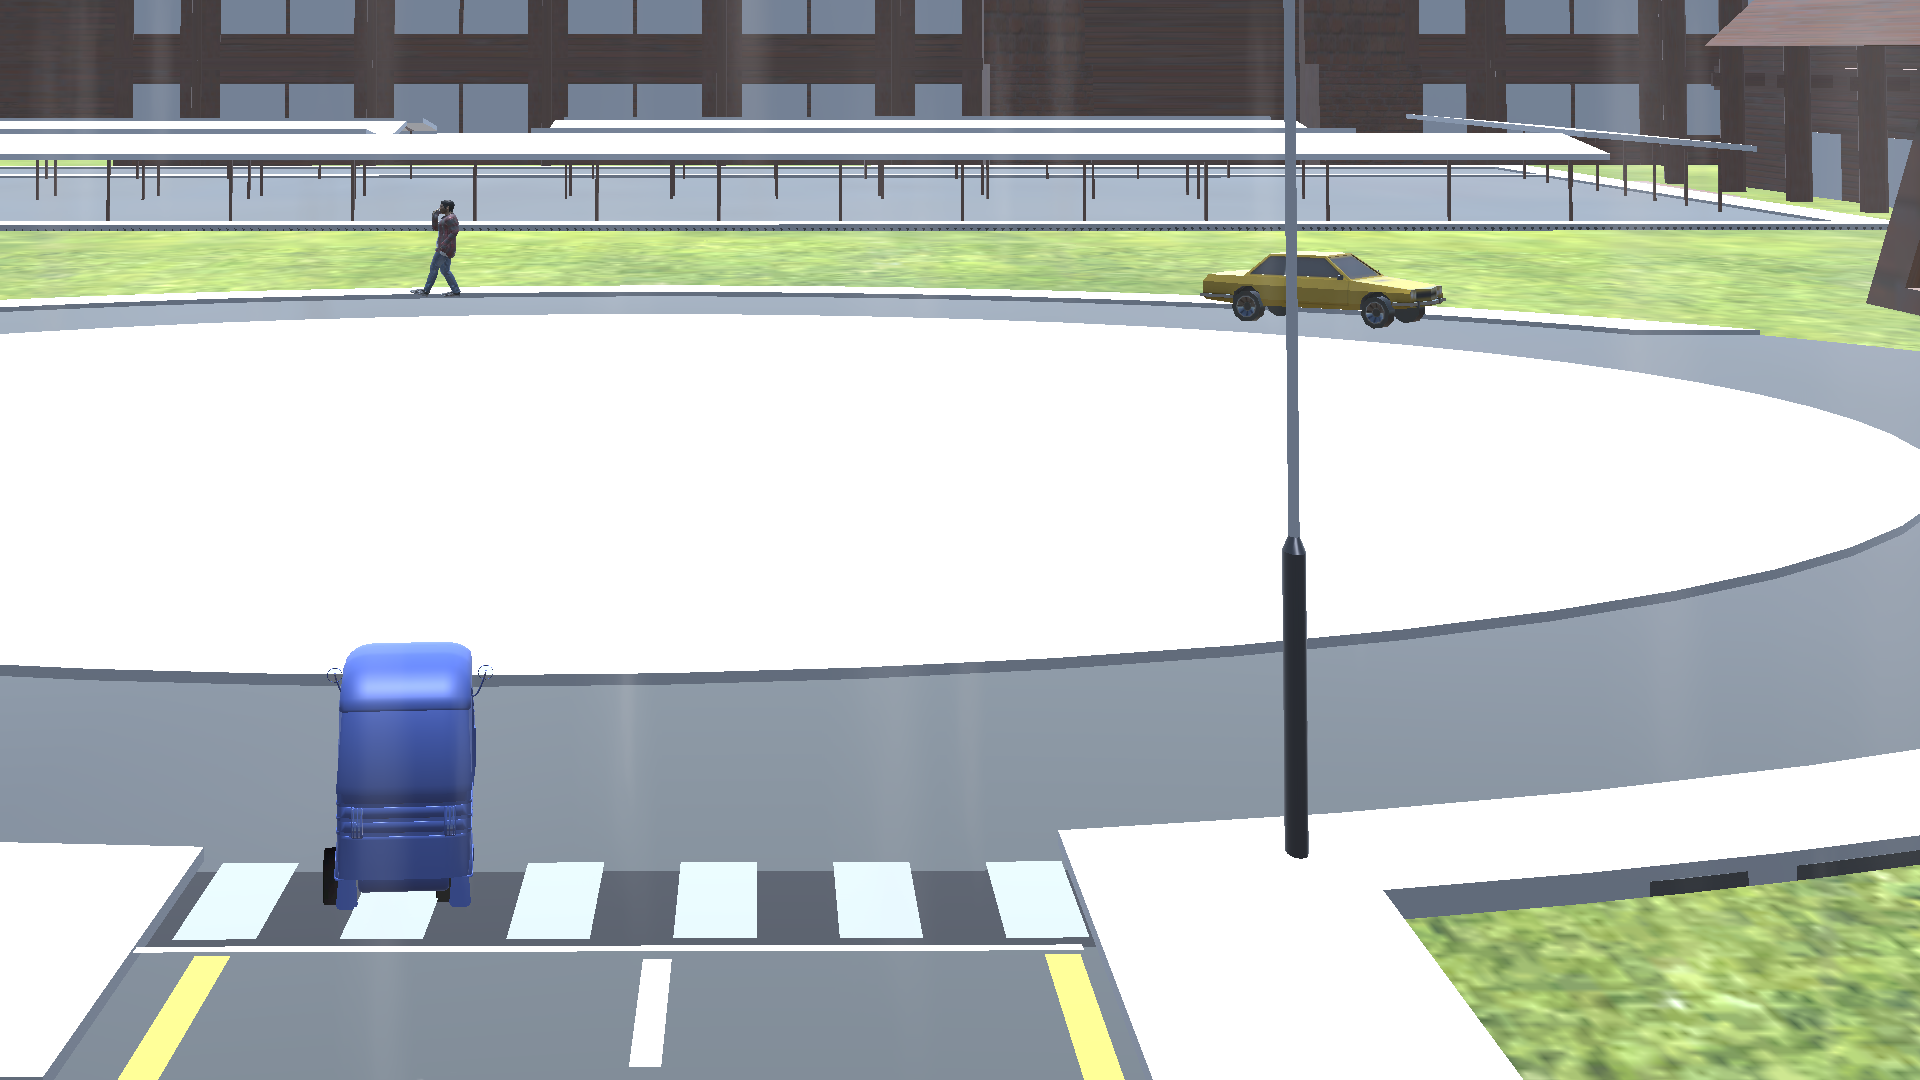pedestrian: (402, 194, 468, 305)
